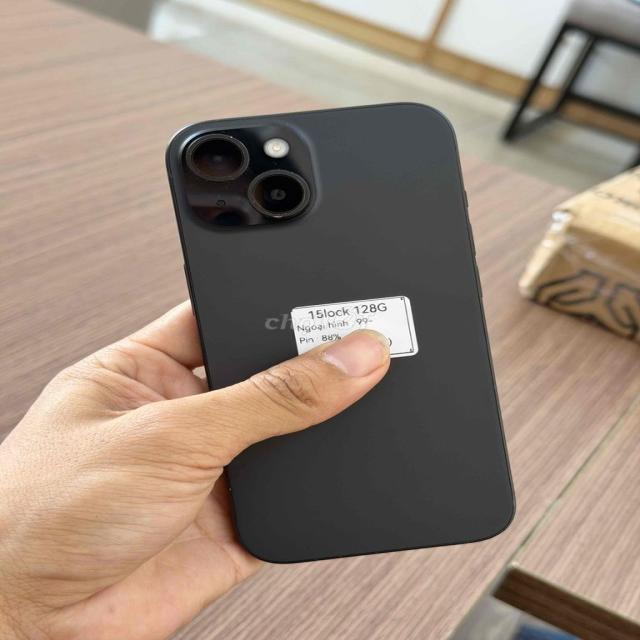gen_15: (152, 95, 534, 553)
